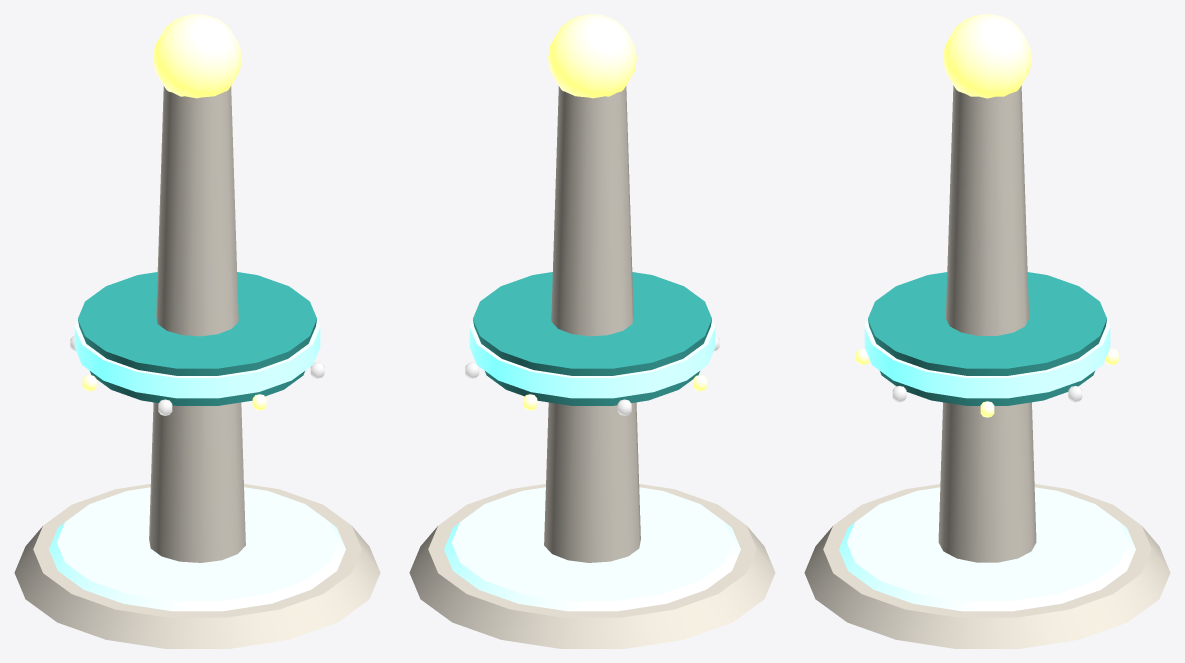
The model's file is luminous-tower.glb.
3 renders of one model, left to right at view 1: azimuth 30°, elevation 25°; view 2: azimuth 150°, elevation 25°; view 3: azimuth 270°, elevation 25°, orthographic.
Visible parts, largest first — view 1: Mesh_warmWhite, Mesh_glowCyan (×2), Mesh_turquoise, Mesh_glowWarm; view 2: Mesh_warmWhite, Mesh_glowCyan (×2), Mesh_turquoise, Mesh_glowWarm; view 3: Mesh_warmWhite, Mesh_glowCyan (×2), Mesh_turquoise, Mesh_glowWarm (×2).
Boxes of the visible parts, bbox=[...] form: Mesh_warmWhite: bbox=[14, 86, 380, 648]; Mesh_glowCyan (×2): bbox=[49, 319, 345, 611]; Mesh_turquoise: bbox=[78, 272, 316, 405]; Mesh_glowWarm: bbox=[153, 14, 241, 98]; Mesh_warmWhite: bbox=[409, 86, 775, 648]; Mesh_glowCyan (×2): bbox=[444, 319, 740, 611]; Mesh_turquoise: bbox=[473, 272, 711, 405]; Mesh_glowWarm: bbox=[548, 14, 636, 98]; Mesh_warmWhite: bbox=[804, 85, 1170, 648]; Mesh_glowCyan (×2): bbox=[839, 319, 1135, 611]; Mesh_turquoise: bbox=[868, 272, 1106, 405]; Mesh_glowWarm (×2): bbox=[856, 14, 1118, 417].
Size of the model in its own units: 7.68 by 13.05 by 7.8.
